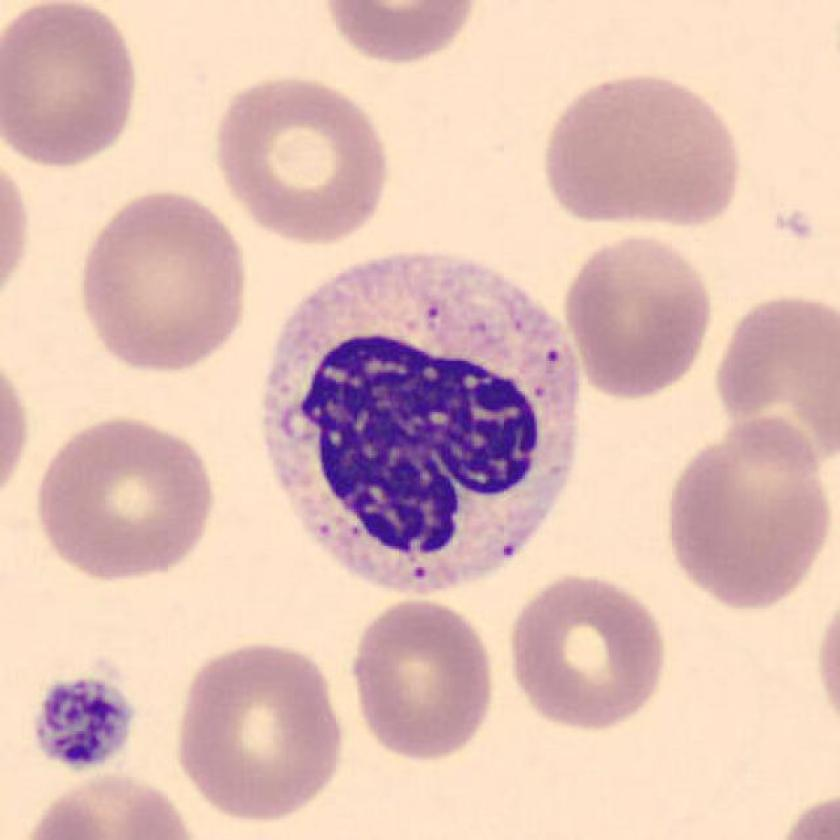neutrophil: (263, 256, 583, 592)
